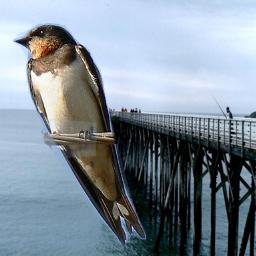Swallow: (12, 23, 146, 245)
